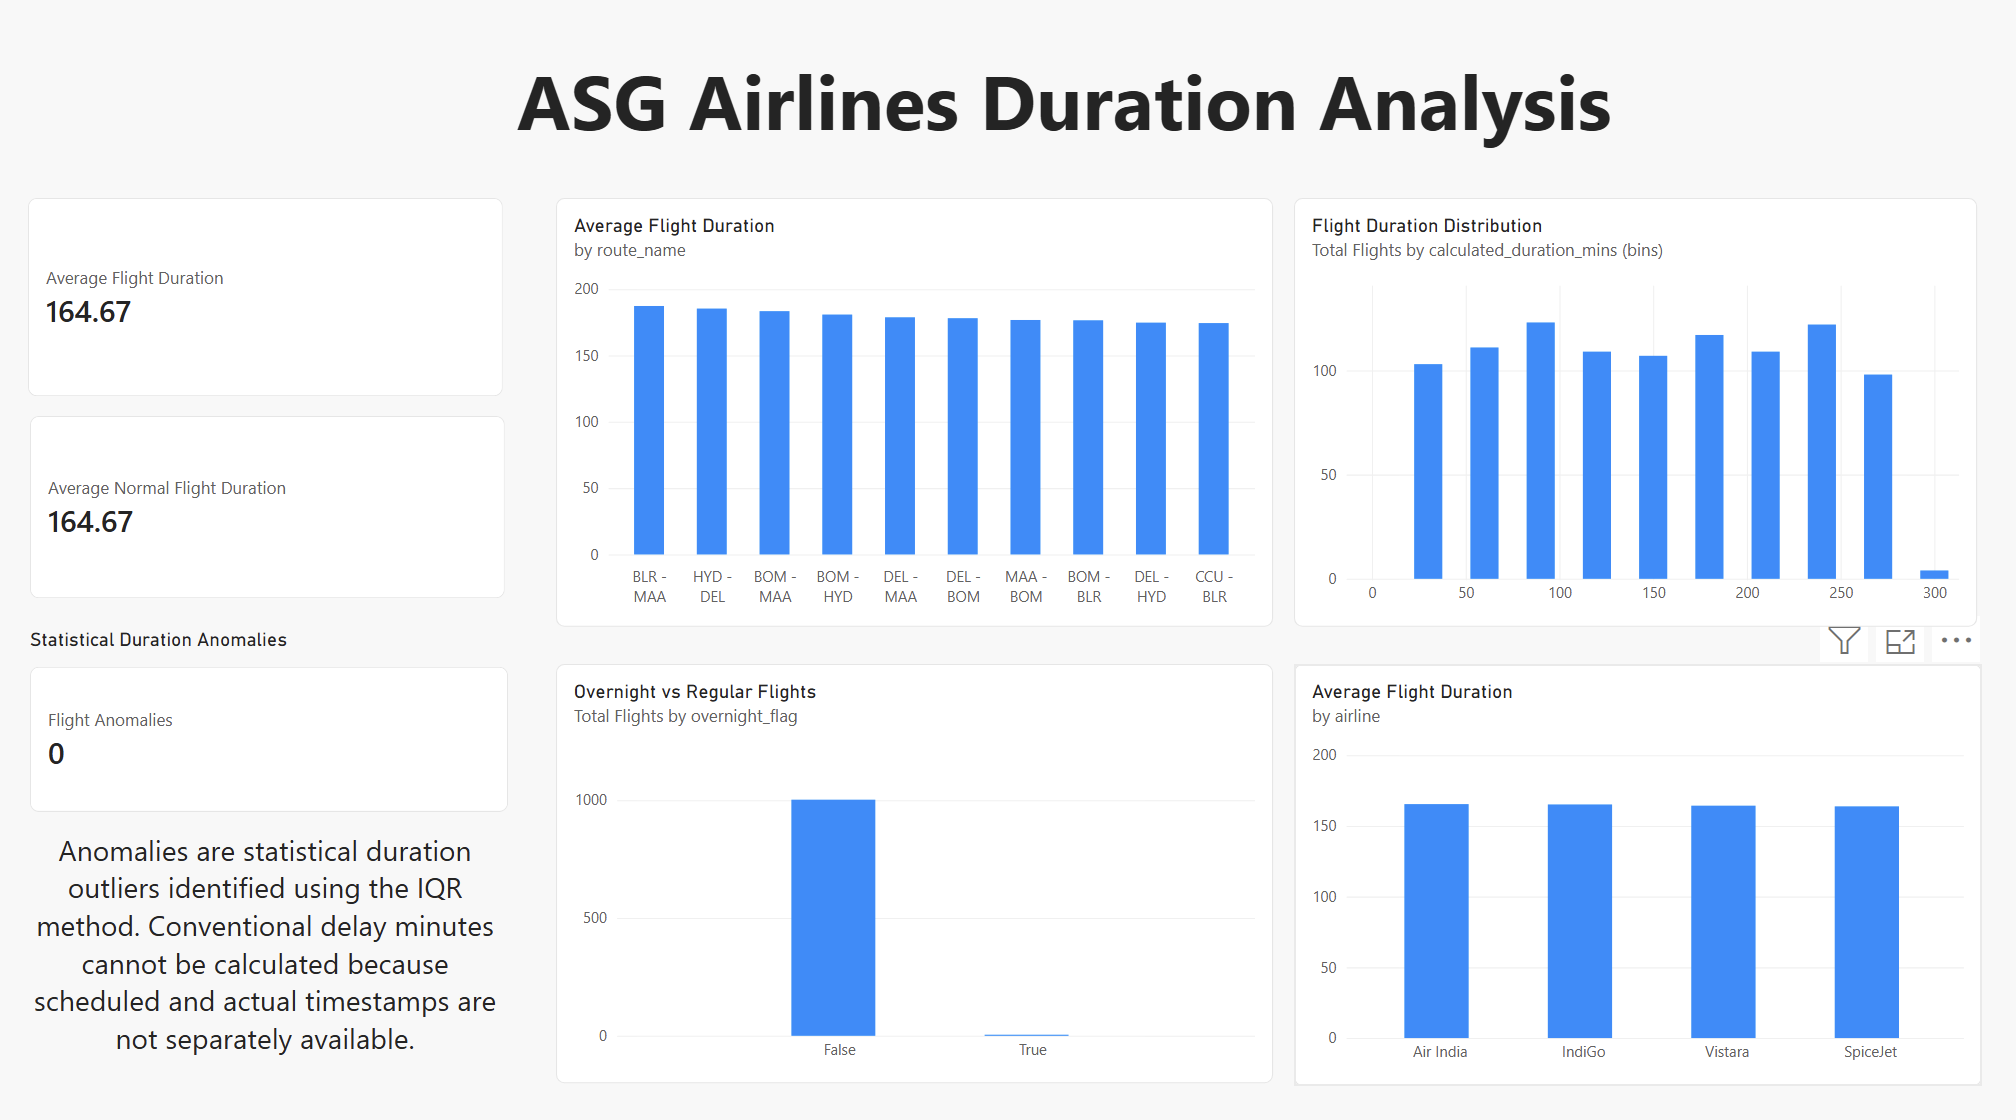

The page's visual inventory and layout, read from the dashboard file:
{"tool":"powerbi","page":{"name":"Duration Analysis","canvas":[1920,1080],"ordinal":1},"visuals":[{"type":"cardVisual","fields":{"Data":["_Measures.Average Flight Duration"]},"box":[36.2,191.5,448.9,187.2],"z":0},{"type":"cardVisual","fields":{"Data":["_Measures.Average Normal Flight Duration"]},"box":[38.3,395.7,448.9,172.3],"z":1000},{"type":"clusteredColumnChart","fields":{"Category":["dim_airline.airline"],"Y":["_Measures.Average Flight Duration"]},"box":[1229.8,629.8,648.9,397.9],"z":2000},{"type":"clusteredColumnChart","fields":{"Category":["dim_route.route_name"],"Y":["_Measures.Average Flight Duration"]},"box":[534,191.5,676.6,404.3],"z":3000},{"type":"clusteredColumnChart","title":"Overnight vs Regular Flights","fields":{"Category":["fact_flights.overnight_flag"],"Y":["_Measures.Total Flights"]},"box":[534,629.8,676.6,395.7],"z":4000},{"type":"cardVisual","title":"Statistical Duration Anomalies","fields":{"Data":["_Measures.Flight Anomalies"]},"box":[38.3,595.7,451.1,174.5],"z":5000},{"type":"clusteredColumnChart","title":"Flight Duration Distribution","fields":{"Category":["fact_flights.calculated_duration_mins (bins)"],"Y":["_Measures.Total Flights"]},"box":[1229.8,191.5,644.7,404.3],"z":6000},{"type":"textbox","box":[293.6,48.9,1438.3,219.1],"z":7000},{"type":"textbox","box":[32,41,262,150],"z":8000},{"type":"textbox","box":[1715,41,160,150],"z":9000},{"type":"textbox","box":[34,787.2,451.1,234],"z":10000}]}

Visuals, with their boxes in screenshot pixels (x1, y1, x2, y2), scaled from the page's 1920x1080 canvas onto the 2016x1120 screenshot:
cardVisual - _Measures.Average Flight Duration: (left=38, top=199, right=509, bottom=393)
cardVisual - _Measures.Average Normal Flight Duration: (left=40, top=410, right=512, bottom=589)
clusteredColumnChart - dim_airline.airline x _Measures.Average Flight Duration: (left=1291, top=653, right=1973, bottom=1066)
clusteredColumnChart - dim_route.route_name x _Measures.Average Flight Duration: (left=561, top=199, right=1271, bottom=618)
"Overnight vs Regular Flights" clusteredColumnChart: (left=561, top=653, right=1271, bottom=1063)
"Statistical Duration Anomalies" cardVisual: (left=40, top=618, right=514, bottom=799)
"Flight Duration Distribution" clusteredColumnChart: (left=1291, top=199, right=1968, bottom=618)
textbox: (left=308, top=51, right=1818, bottom=278)
textbox: (left=34, top=43, right=309, bottom=198)
textbox: (left=1801, top=43, right=1969, bottom=198)
textbox: (left=36, top=816, right=509, bottom=1059)
